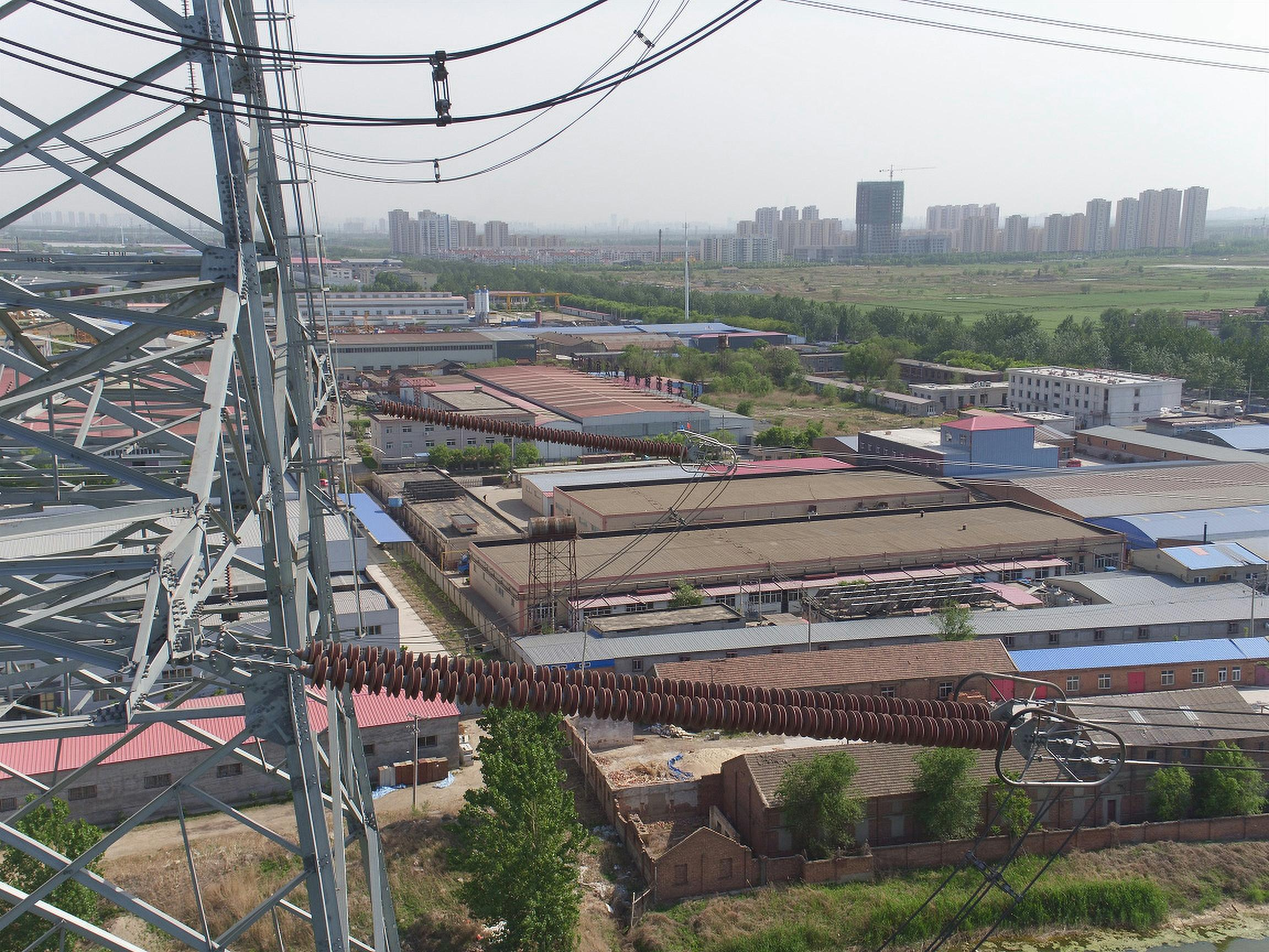insulator: (305, 634, 1017, 755), (376, 397, 690, 461)
